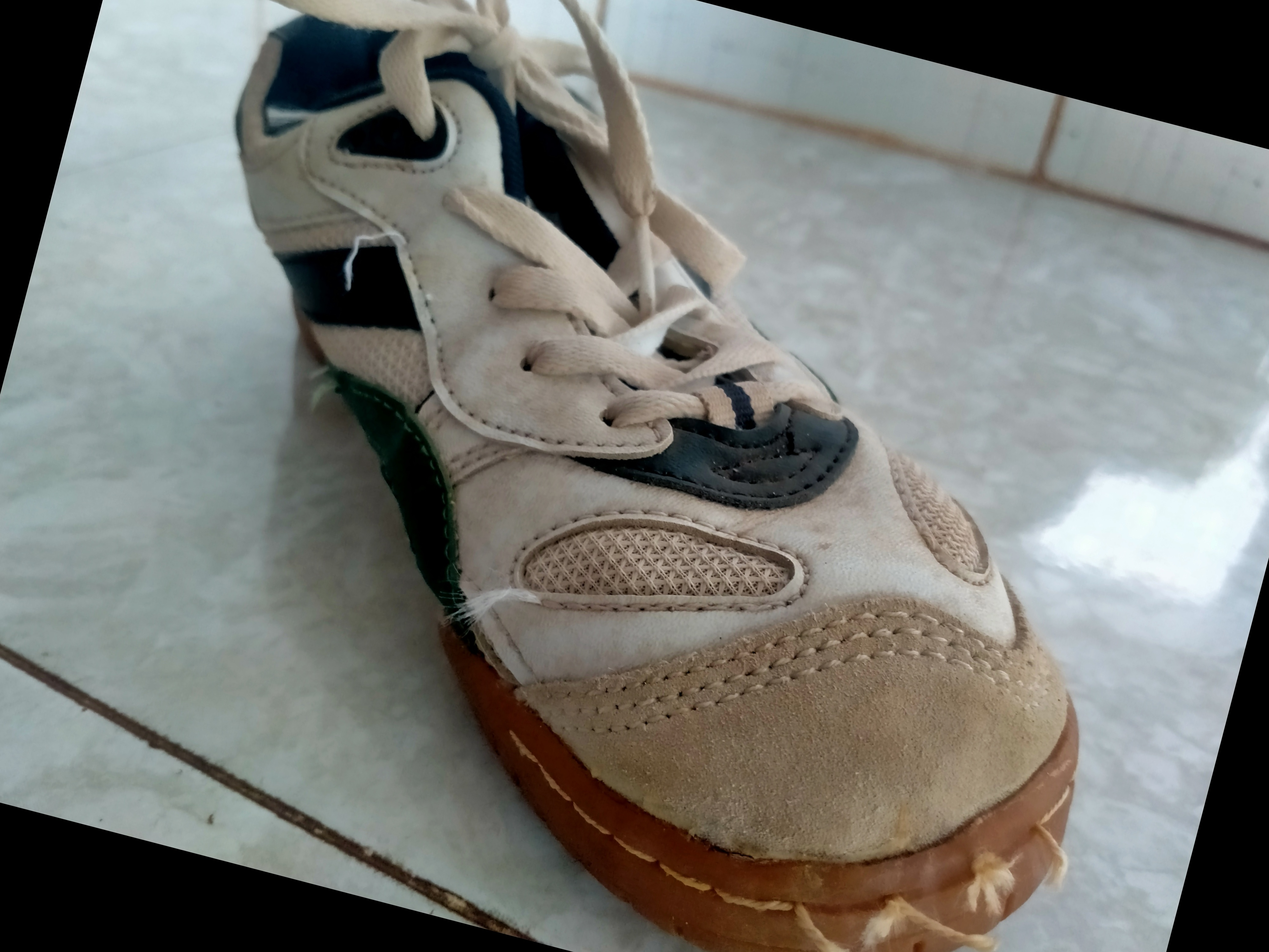broken: (789, 762, 1050, 952), (378, 230, 456, 321)
